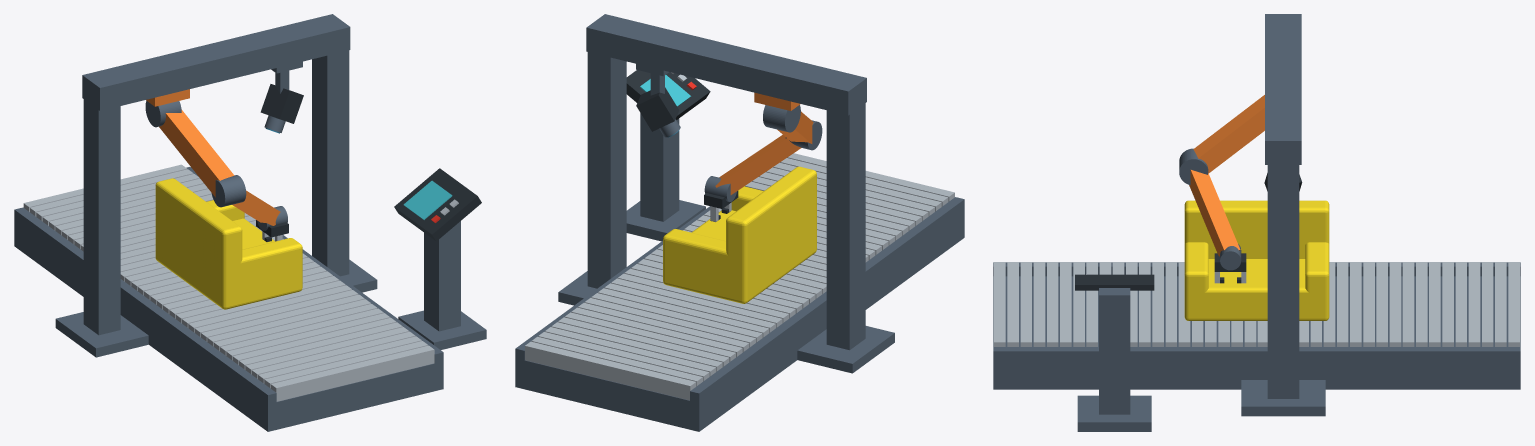
File: openscad_customizable-furniture-minis_L6_Q0__gpt61_sol.glb
3 renders of one model, left to right at view 1: azimuth 30°, elevation 25°; view 2: azimuth 150°, elevation 25°; view 3: azimuth 270°, elevation 25°, orthographic. The views are drawn at different scales.
Visible parts, largest first — view 1: object; view 2: object; view 3: object.
Part boxes in pixels (x1,y1,x2,y2): object: (14, 14, 486, 431); object: (515, 14, 964, 431); object: (993, 14, 1520, 431).
Bounding box in the file's own units: 71 × 56 × 100.
